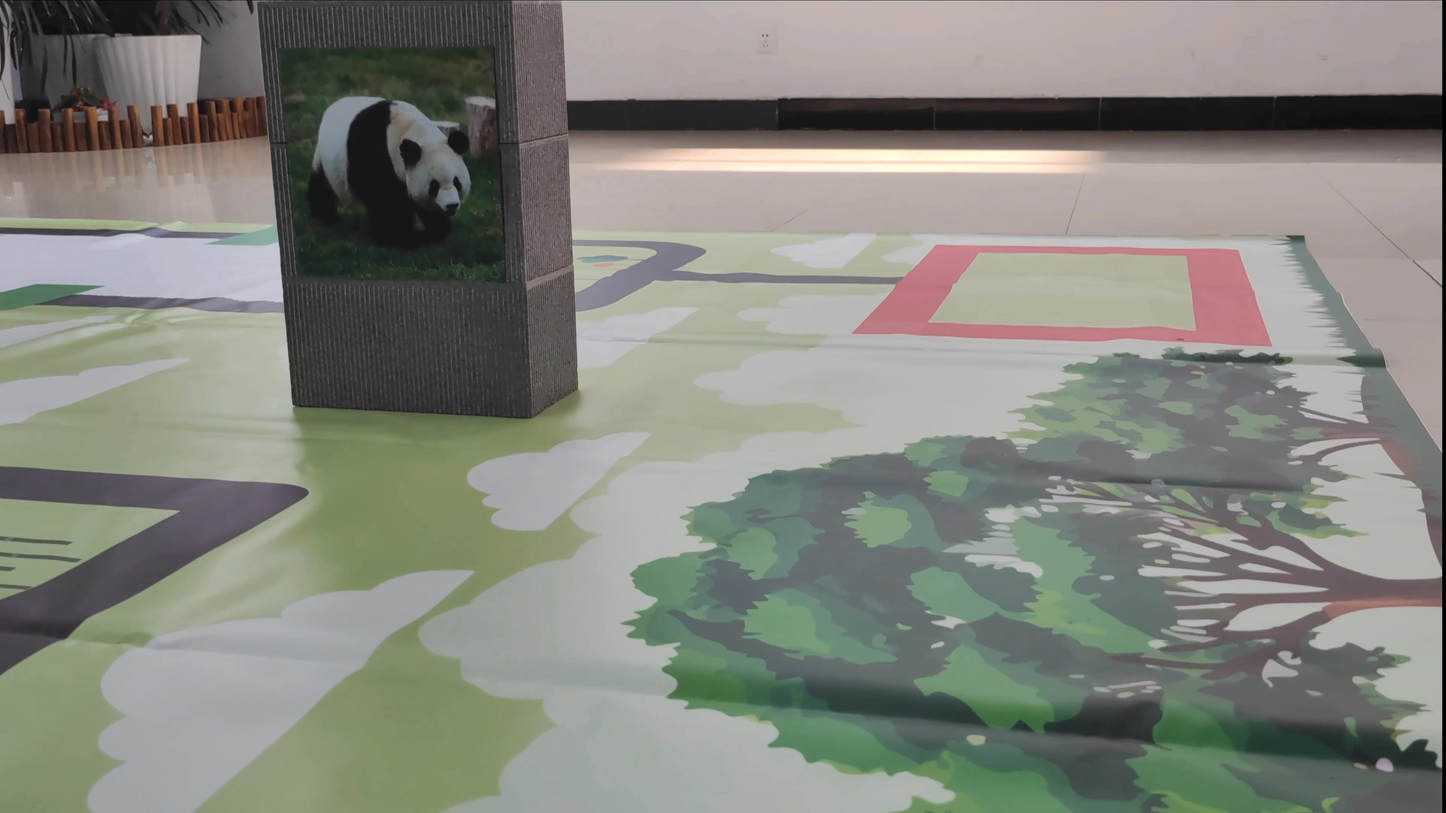panda: (292, 56, 503, 247)
